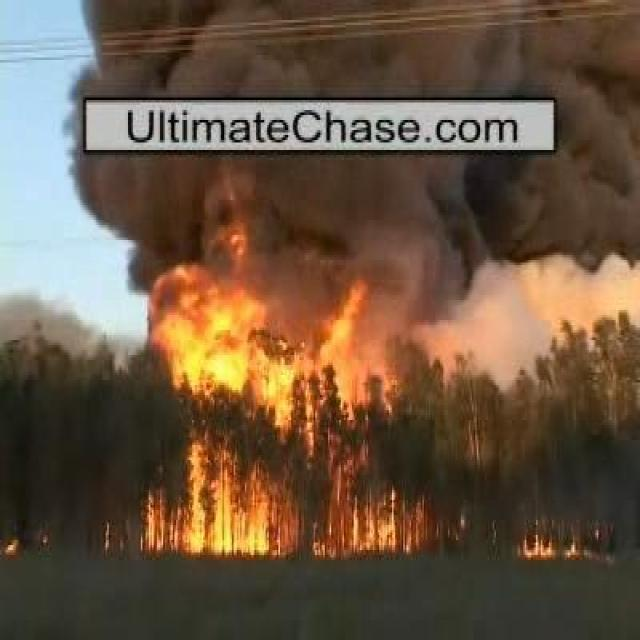Fire: (155, 283, 296, 405), (180, 440, 295, 562), (312, 479, 406, 559)
Smoke: (94, 149, 616, 269), (349, 277, 573, 375)
